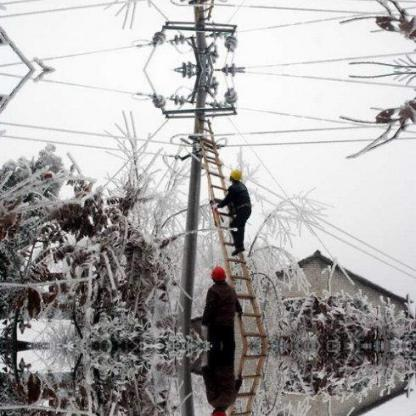helmet: (209, 263, 227, 284), (229, 163, 243, 182)
